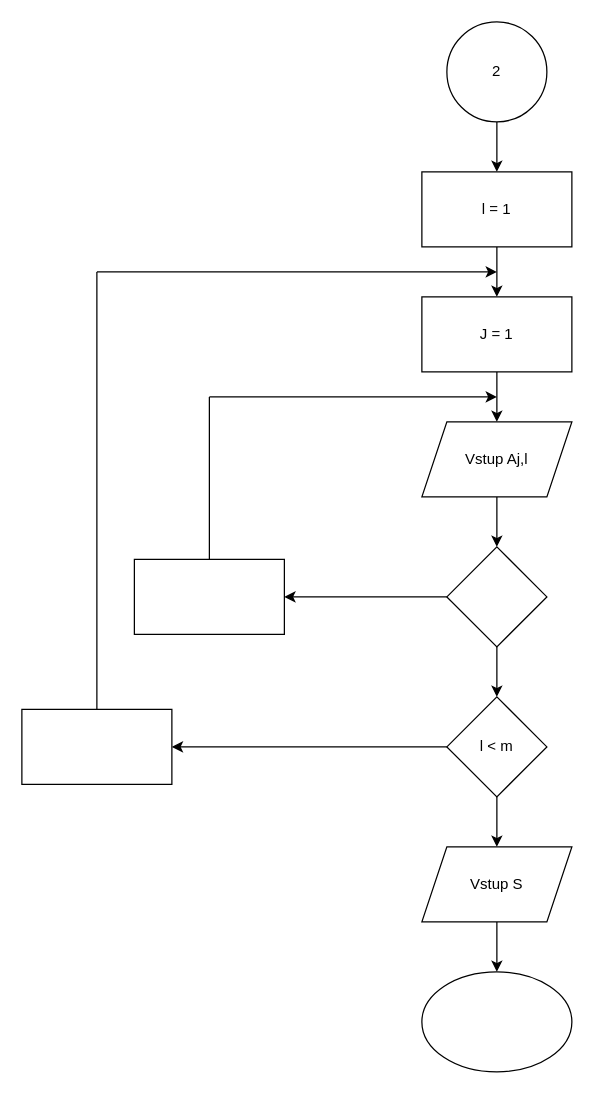
Image size: 594x1094. Some labels were removed from this diagram. Each missing label, with the centre of its shape:
J < n: (496,596)
l = l + 1: (96,746)
Stop: (496,1021)
